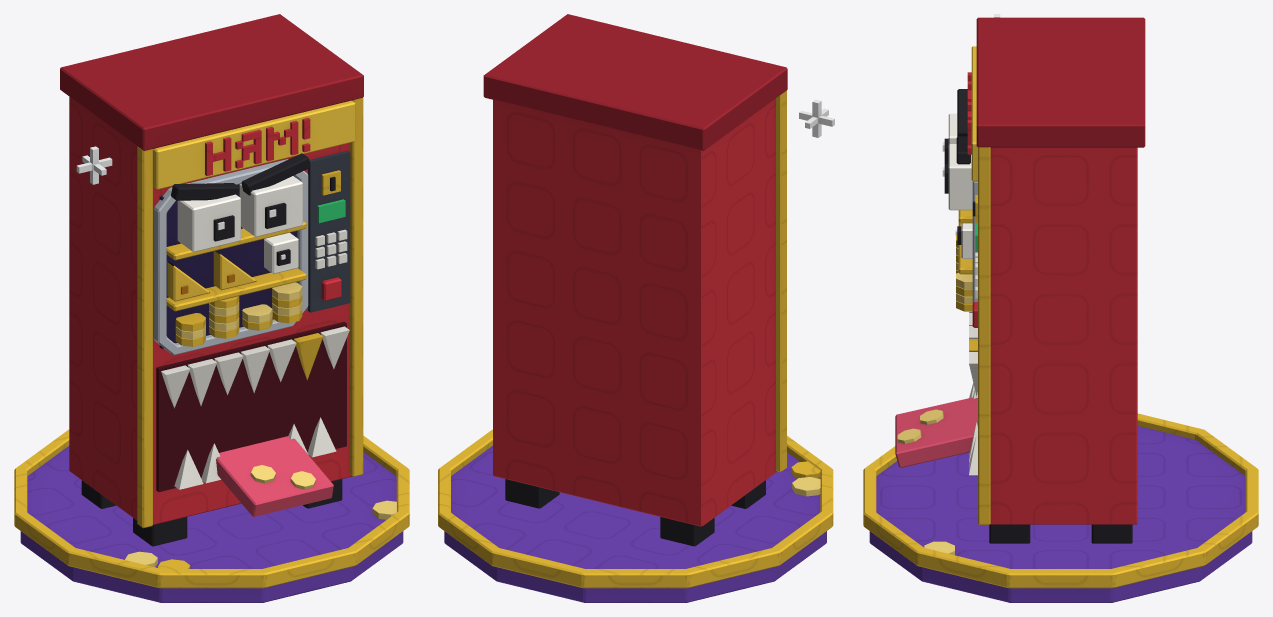
File: DevourerVending.fbx
The picture shows the model from 3 angles, left to right: view 1: azimuth 30°, elevation 25°; view 2: azimuth 150°, elevation 25°; view 3: azimuth 270°, elevation 25°; orthographic projection.
Visible parts, largest first — view 1: Art_DevourerVending_Body, Art_DevourerVending_Stand, Art_DevourerVending_Jaw, Art_DevourerVending_EyeL, Art_DevourerVending_EyeR, Art_DevourerVending_Brows, Art_DevourerVending_EyeS, Art_DevourerVending_LegFL; view 2: Art_DevourerVending_Body, Art_DevourerVending_Stand, Art_DevourerVending_LegBL, Art_DevourerVending_LegBR; view 3: Art_DevourerVending_Body, Art_DevourerVending_Stand, Art_DevourerVending_Jaw, Art_DevourerVending_EyeR, Art_DevourerVending_Brows, Art_DevourerVending_LegBR, Art_DevourerVending_LegFR.
Boxes of the visible parts, x1,y1,x2,y2 form: Art_DevourerVending_Body: (60, 14, 363, 528); Art_DevourerVending_Stand: (14, 146, 409, 602); Art_DevourerVending_Jaw: (174, 417, 336, 516); Art_DevourerVending_EyeL: (177, 194, 240, 252); Art_DevourerVending_EyeR: (239, 176, 302, 237); Art_DevourerVending_Brows: (171, 153, 310, 200); Art_DevourerVending_EyeS: (264, 232, 298, 273); Art_DevourerVending_LegFL: (133, 517, 187, 546); Art_DevourerVending_Body: (483, 14, 787, 526); Art_DevourerVending_Stand: (438, 99, 834, 602); Art_DevourerVending_LegBL: (660, 517, 714, 546); Art_DevourerVending_LegBR: (505, 479, 559, 508); Art_DevourerVending_Body: (956, 17, 1145, 525); Art_DevourerVending_Stand: (863, 14, 1258, 602); Art_DevourerVending_Jaw: (895, 383, 977, 475); Art_DevourerVending_EyeR: (942, 144, 972, 210); Art_DevourerVending_Brows: (956, 89, 970, 164); Art_DevourerVending_LegBR: (1091, 524, 1132, 543); Art_DevourerVending_LegFR: (989, 524, 1030, 543).
Bounding box in the file's own units: 3.09 × 3.9 × 3.09.
